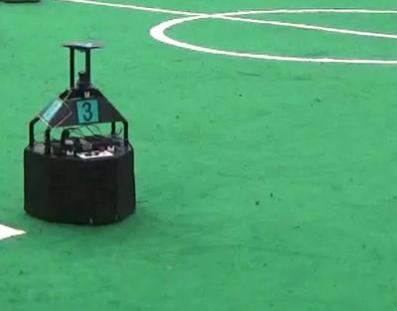robot: (21, 40, 138, 227)
